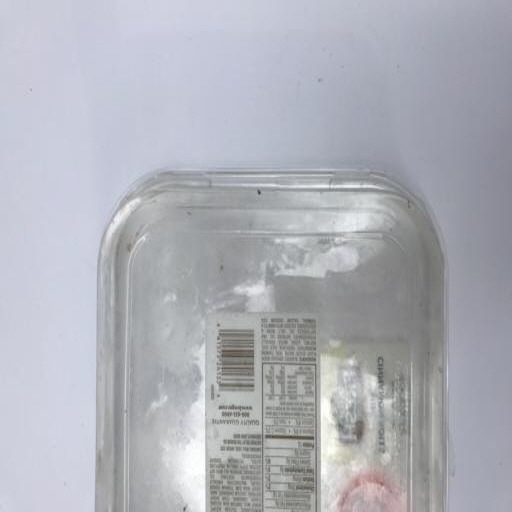Plastic_4: (93, 166, 449, 512)
